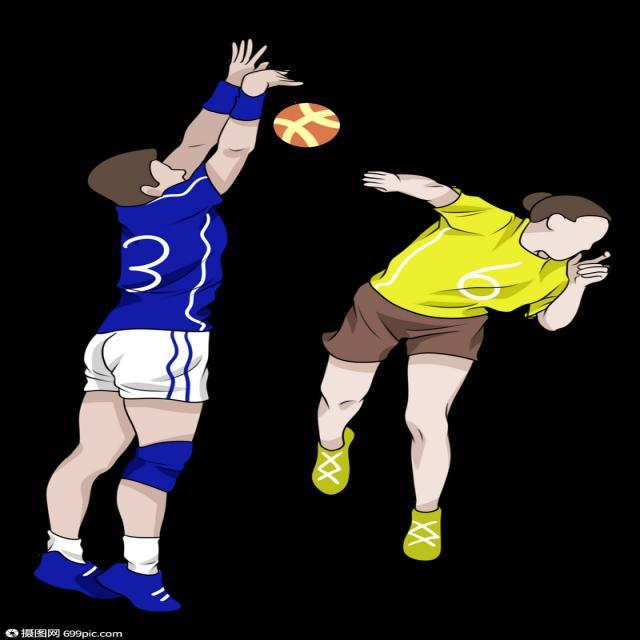rim: (274, 99, 344, 145)
